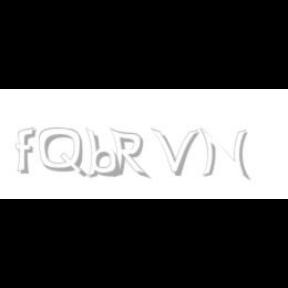N: (200, 128, 248, 180)
Q: (39, 128, 85, 178)
R: (109, 128, 147, 180)
V: (151, 128, 199, 176)
b: (85, 128, 123, 178)
f: (16, 128, 40, 174)
